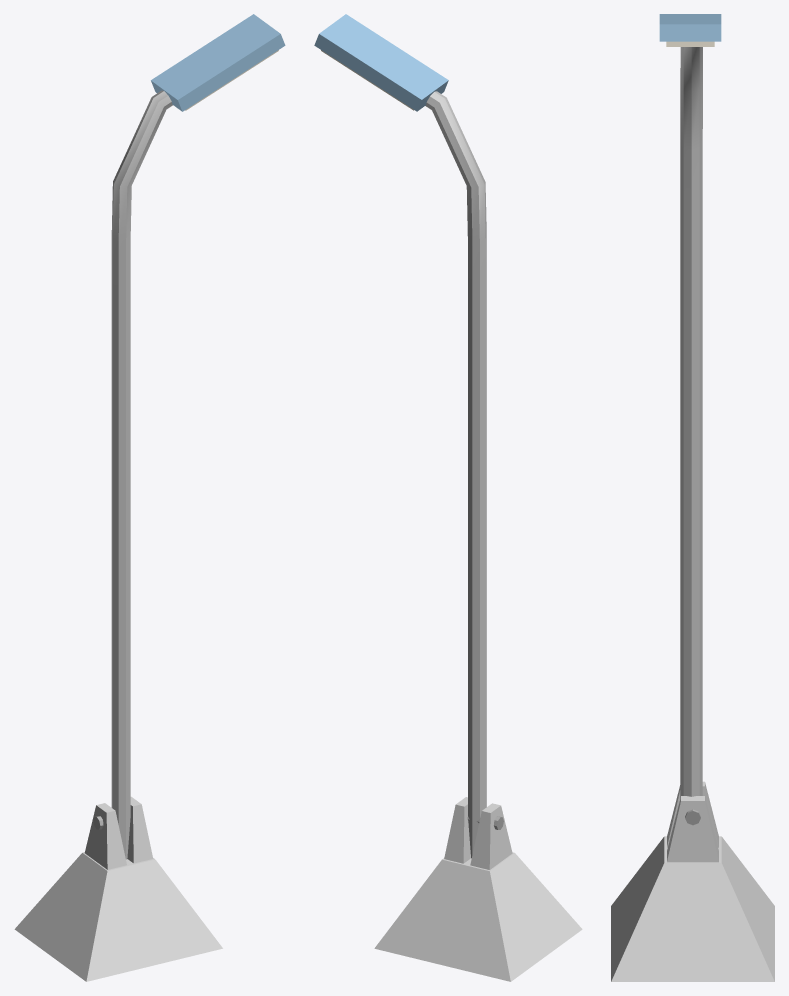
File: lamp1_2.fbx
3 views of the same model, side by side, from view 1: azimuth 30°, elevation 25°; view 2: azimuth 150°, elevation 25°; view 3: azimuth 270°, elevation 25° (orthographic). The views are drawn at different scales.
Visible parts, largest first — view 1: Cylinder; view 2: Cylinder; view 3: Cylinder.
Boxes of the visible parts, x1,y1,x2,y2 form: Cylinder: [14, 14, 285, 981]; Cylinder: [314, 14, 582, 981]; Cylinder: [611, 14, 774, 981].
Size of the model in its own units: 104 by 397 by 58.8.
